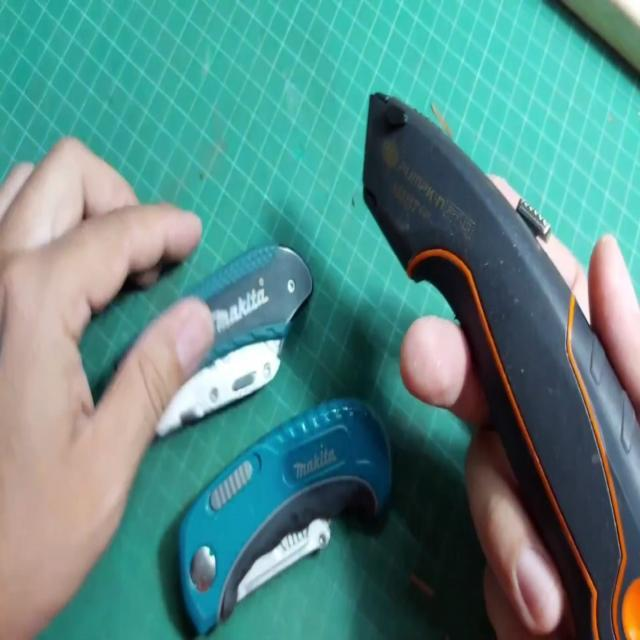cutter: (309, 51, 640, 640), (0, 123, 333, 640), (156, 375, 413, 640)
